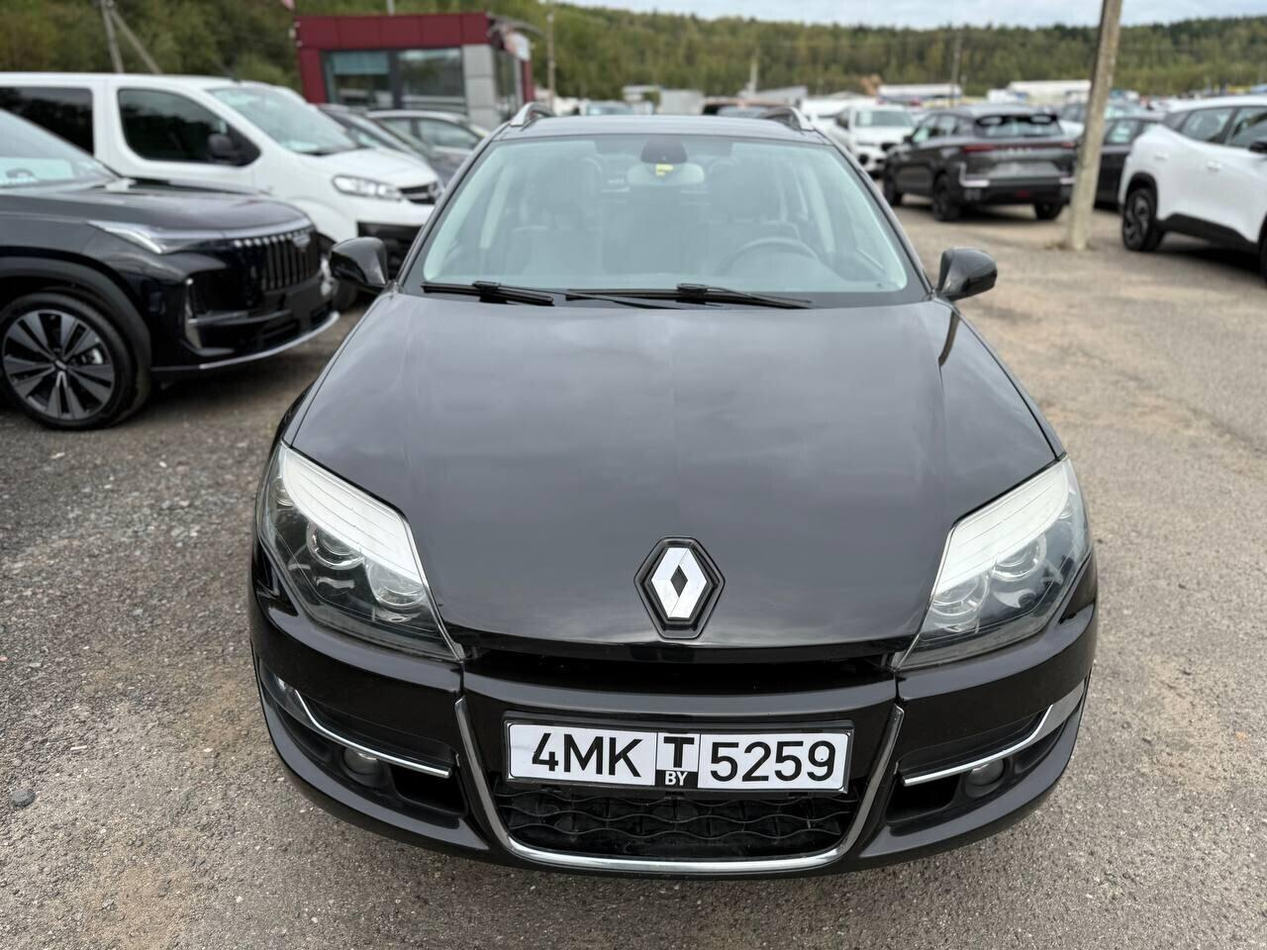Laguna_2010-2015: (257, 103, 1093, 877)
